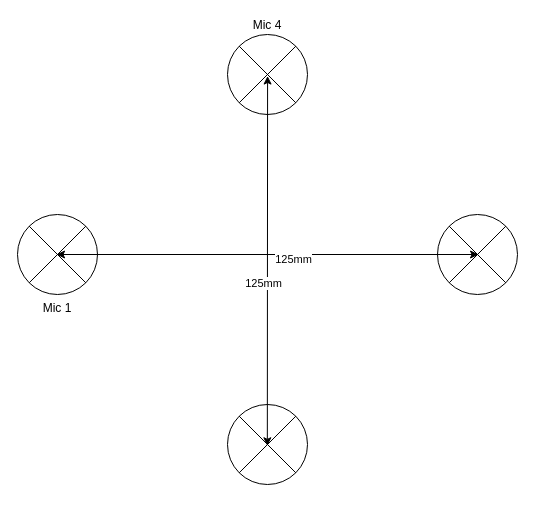
Image size: 535x522. Some labels were removed from this diagram. Each missing label, with the centre of its shape:
Mic 2: (477,254)
Mic 3: (267,444)
